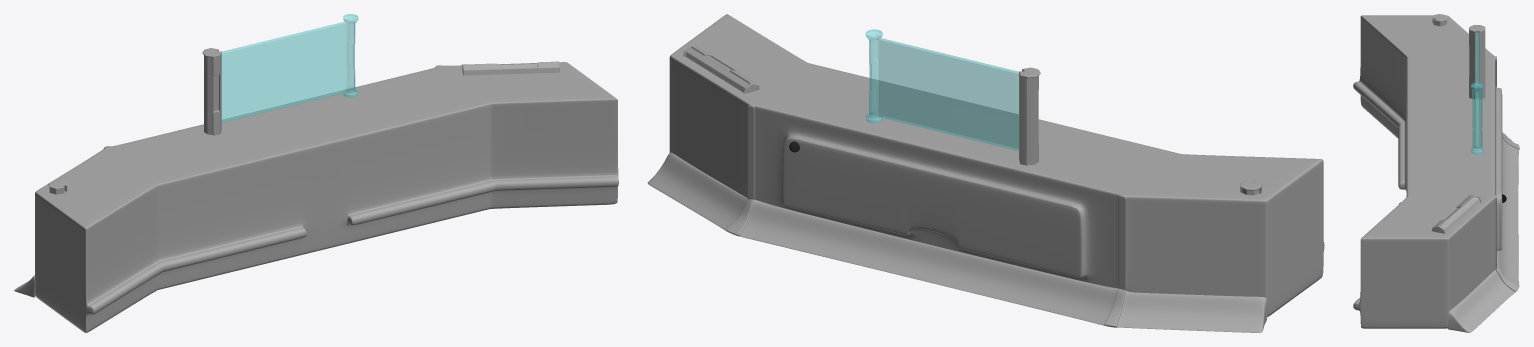
The model's file is reception.fbx.
The picture shows the model from 3 angles, left to right: view 1: azimuth 30°, elevation 25°; view 2: azimuth 150°, elevation 25°; view 3: azimuth 270°, elevation 25°; orthographic projection. The views are drawn at different scales.
Visible parts, largest first — view 1: reception_part1_table_new:polySurface1, reception_part3_mainComputer_p1:polySurface1, reception_part3_mainComputer_p2:polySurface1, reception_part4_sideComputer2:polySurface1; view 2: reception_part1_table_new:polySurface1, reception_part2_ground:polySurface1, reception_part3_mainComputer_p1:polySurface1, reception_part3_mainComputer_p2:polySurface1, reception_part4_sideComputer2:polySurface1; view 3: reception_part1_table_new:polySurface1, reception_part2_ground:polySurface1, reception_part3_mainComputer_p2:polySurface1, reception_part3_mainComputer_p1:polySurface1, reception_part4_sideComputer2:polySurface1, reception_part4_sideComputer1:polySurface1.
Boxes of the visible parts, <box> form: reception_part1_table_new:polySurface1: <box>35,62,618,332</box>; reception_part3_mainComputer_p1:polySurface1: <box>221,14,358,122</box>; reception_part3_mainComputer_p2:polySurface1: <box>202,48,221,135</box>; reception_part4_sideComputer2:polySurface1: <box>462,61,559,75</box>; reception_part1_table_new:polySurface1: <box>669,14,1324,316</box>; reception_part2_ground:polySurface1: <box>647,152,1267,332</box>; reception_part3_mainComputer_p1:polySurface1: <box>865,29,1018,151</box>; reception_part3_mainComputer_p2:polySurface1: <box>1019,67,1040,165</box>; reception_part4_sideComputer2:polySurface1: <box>683,45,759,93</box>; reception_part1_table_new:polySurface1: <box>1353,15,1502,328</box>; reception_part2_ground:polySurface1: <box>1447,132,1519,332</box>; reception_part3_mainComputer_p2:polySurface1: <box>1469,25,1485,99</box>; reception_part3_mainComputer_p1:polySurface1: <box>1470,33,1483,154</box>; reception_part4_sideComputer2:polySurface1: <box>1432,194,1481,233</box>; reception_part4_sideComputer1:polySurface1: <box>1432,14,1448,26</box>.
Bounding box in the file's own units: 24.64 × 8.08 × 7.56.
